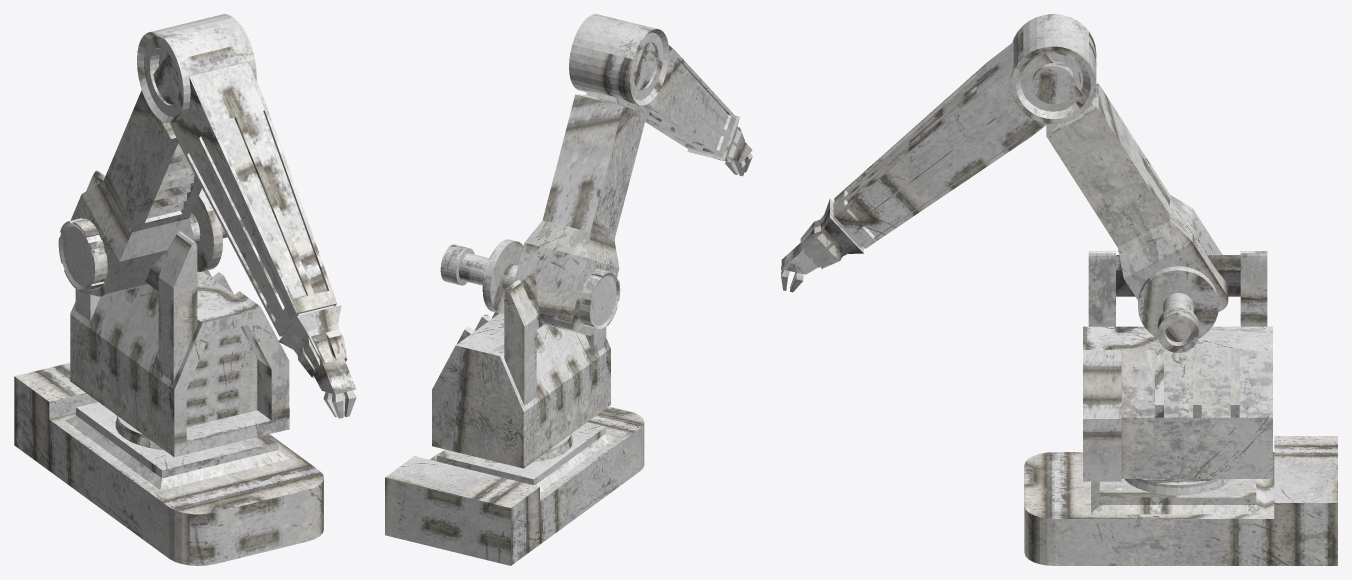
Rendered from asset2.glb.
The picture shows the model from 3 angles, left to right: view 1: azimuth 30°, elevation 25°; view 2: azimuth 150°, elevation 25°; view 3: azimuth 270°, elevation 25°; orthographic projection. The views are drawn at different scales.
Parts seen in each view (by area): view 1: Cube; view 2: Cube; view 3: Cube.
Boxes of the visible parts, x1,y1,x2,y2 form: Cube: [14, 14, 356, 565]; Cube: [385, 14, 752, 565]; Cube: [781, 14, 1337, 565].
Bounding box in the file's own units: 0.2772 × 0.7546 × 0.7924.
1 material, 1 textured.
